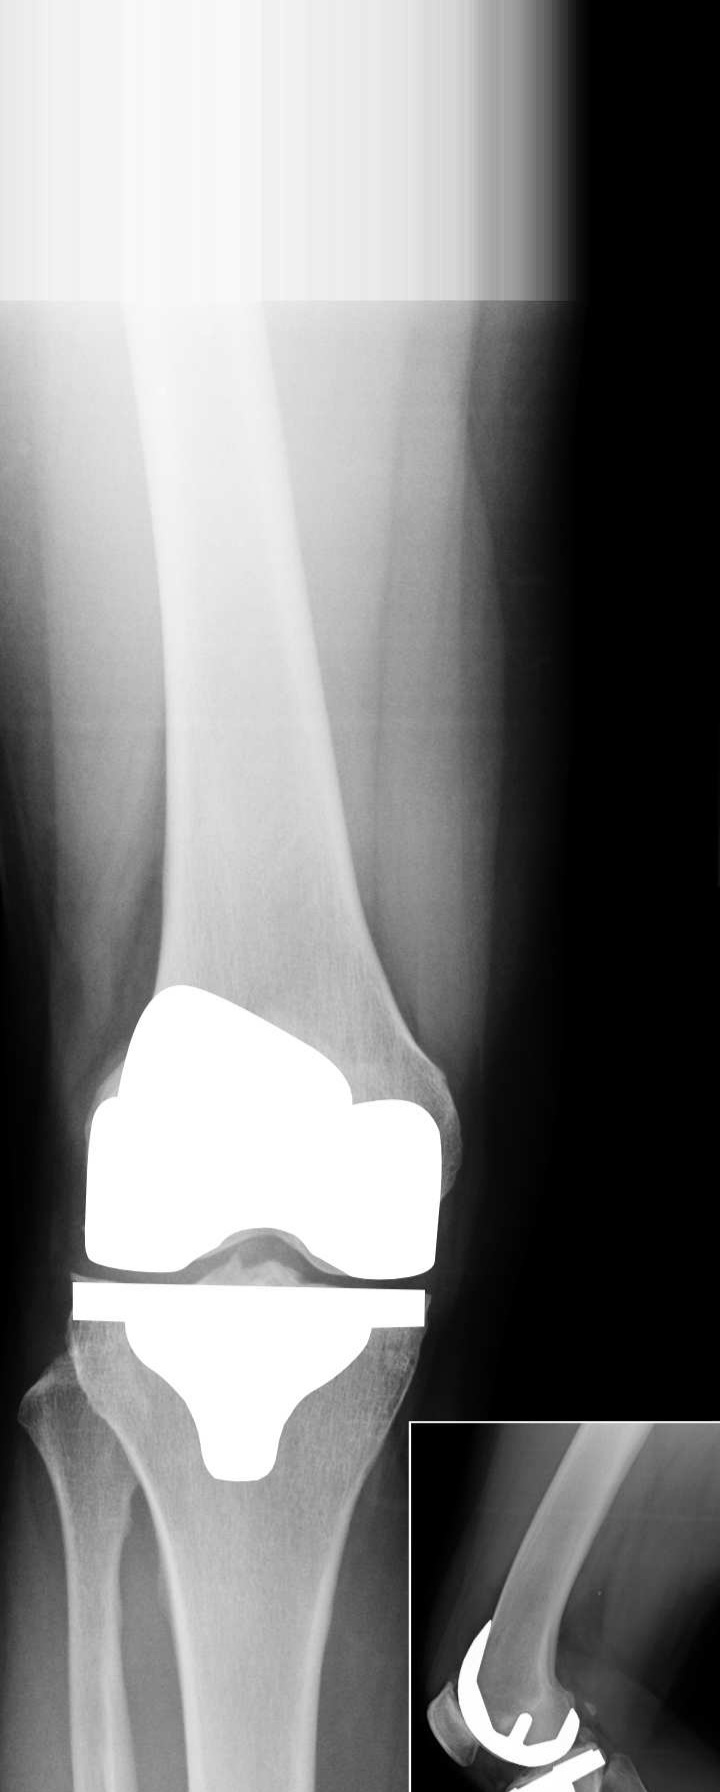Knee-Triathlon-Stryker: (57, 985, 449, 1488), (449, 1618, 607, 1785)
